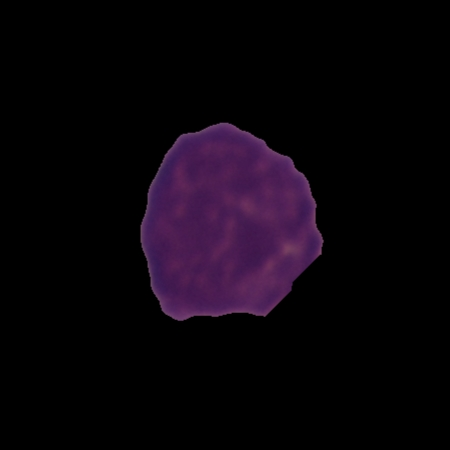HEM: (137, 119, 327, 323)
